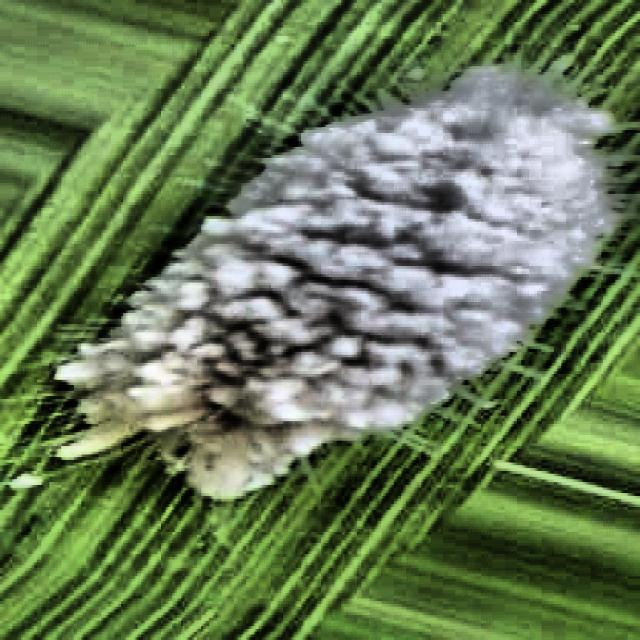Mealy-bug: (78, 23, 634, 561)
